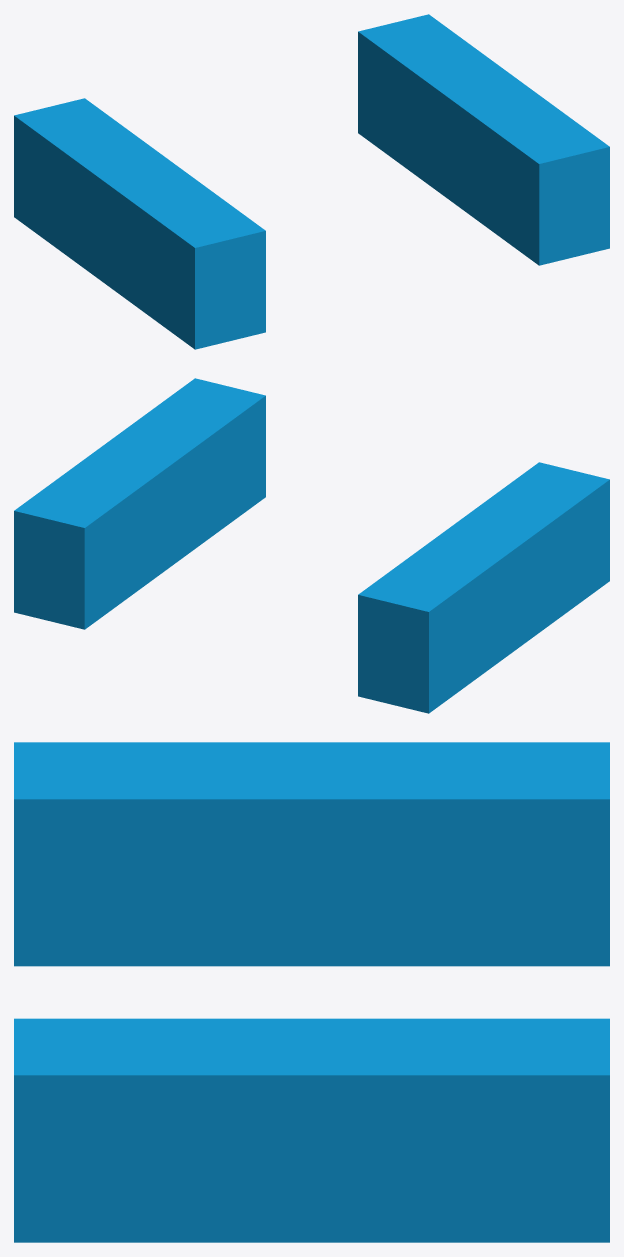
Rendered from rear_quarters.glb.
The picture shows the model from 3 angles, top to bottom: view 1: azimuth 30°, elevation 25°; view 2: azimuth 150°, elevation 25°; view 3: azimuth 270°, elevation 25°; orthographic projection. The views are drawn at different scales.
Parts seen in each view (by area): view 1: Rear_Quarter_Panel_LH, Rear_Quarter_Panel_RH; view 2: Rear_Quarter_Panel_LH, Rear_Quarter_Panel_RH; view 3: Rear_Quarter_Panel_LH, Rear_Quarter_Panel_RH.
Boxes of the visible parts, x1=… form: Rear_Quarter_Panel_LH: x1=14, y1=98, x2=265, y2=349; Rear_Quarter_Panel_RH: x1=358, y1=14, x2=609, y2=265; Rear_Quarter_Panel_LH: x1=358, y1=462, x2=609, y2=713; Rear_Quarter_Panel_RH: x1=14, y1=378, x2=265, y2=629; Rear_Quarter_Panel_LH: x1=14, y1=742, x2=609, y2=966; Rear_Quarter_Panel_RH: x1=14, y1=1018, x2=609, y2=1242.
Bounding box in the file's own units: 2.05 × 0.48 × 1.55.
